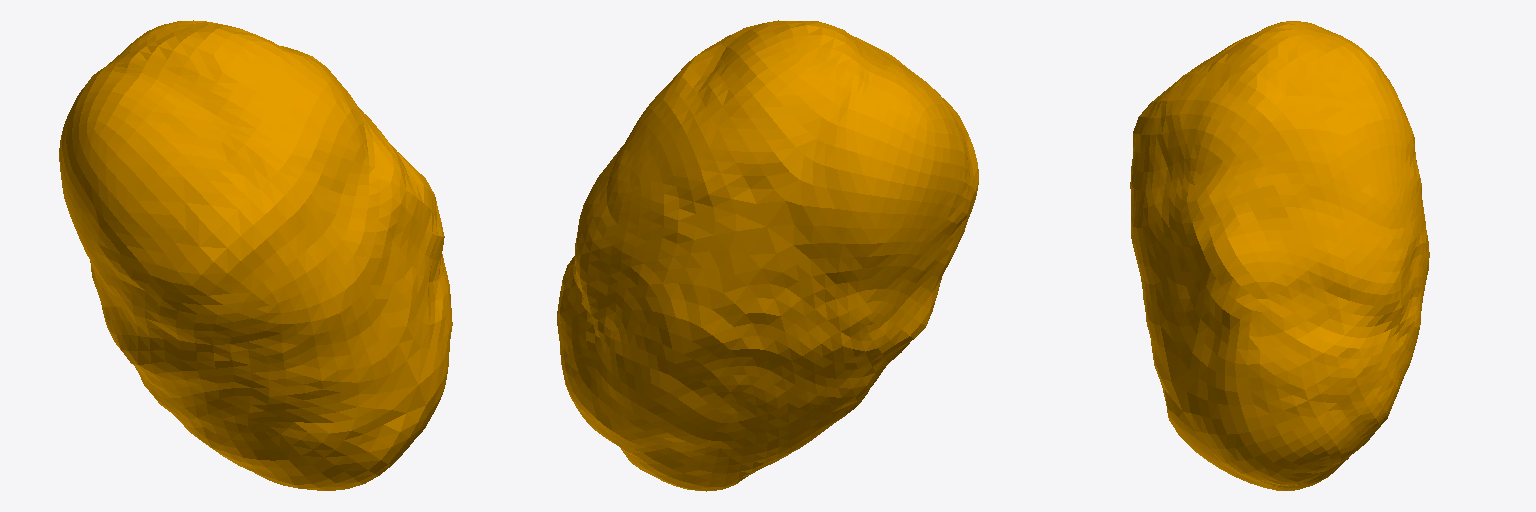
URDF robot description (rock):
<?xml version="1.0" ?>
<robot name="rock">
  <link name="rock">
    <inertial>
      <mass value="0.25"/>
      <origin rpy="0 0 0" xyz="0 0 0"/>
      <inertia ixx="0.00025" ixy="0" ixz="0" iyy="0.00025" iyz="0" izz="0.00025"/>
    </inertial>
    <collision name="rock_collision">
      <origin rpy="0 0 0" xyz="0 0 0"/>
      <geometry>
        <mesh filename="package://rocks/collision/23.stl" scale="1 1 1"/>
      </geometry>
    </collision>
    <visual name="rock_visual">
      <origin rpy="0 0 0" xyz="0 0 0"/>
      <geometry>
        <mesh filename="package://rocks/visual/23.dae" scale="1 1 1"/>
      </geometry>
    </visual>
  </link>
</robot>

--- Render facts (derived) ---
Views: 3 orthographic renders of the robot side by side, from view 1: azimuth 30°, elevation 25°; view 2: azimuth 150°, elevation 25°; view 3: azimuth 270°, elevation 25°.
Model rock with 1 links and 0 joints (none), rooted at rock, posed all joints at 0.
Links seen in each view (by area): view 1: rock; view 2: rock; view 3: rock.
Link boxes in pixels (box(x1,y1,x2,y2)): rock: box(59, 20, 452, 490); rock: box(557, 20, 978, 491); rock: box(1130, 21, 1429, 490).
Bounding box of the posed robot: 0.0727 × 0.0618 × 0.0929 m (x, y, z).
1 mesh visuals loaded from 1 distinct referenced files (1 Collada DAE).